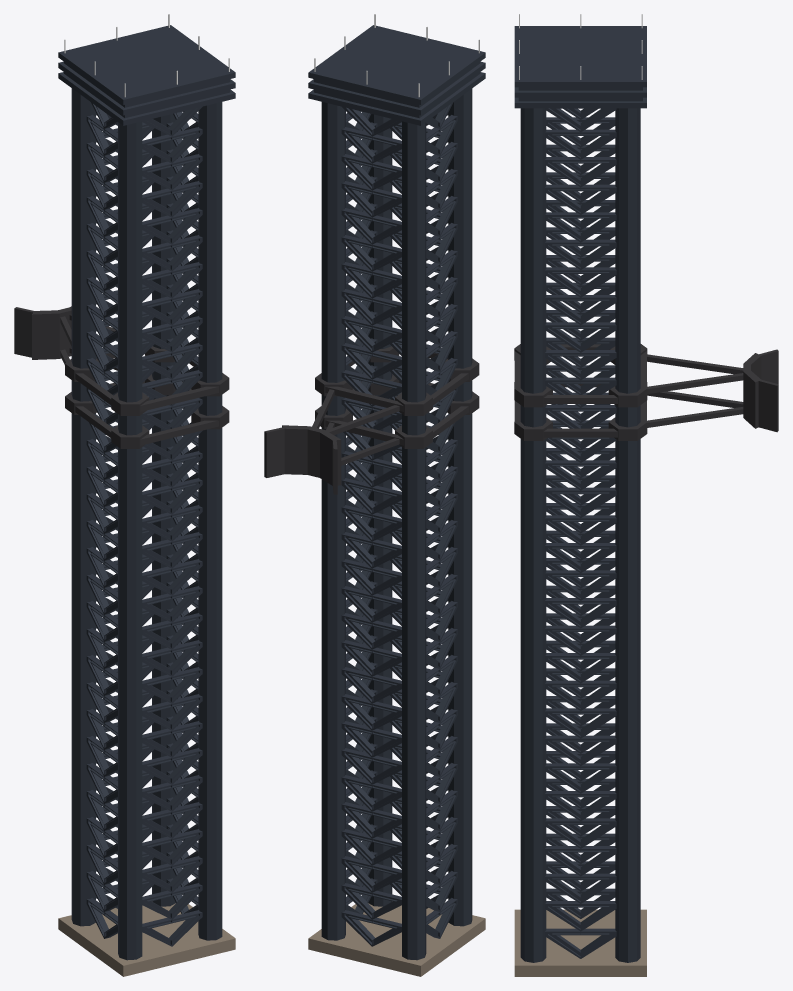
The model's file is rocketStand.fbx.
3 views of the same model, side by side, from view 1: azimuth 30°, elevation 25°; view 2: azimuth 150°, elevation 25°; view 3: azimuth 270°, elevation 25° (orthographic). The views are drawn at different scales.
Parts seen in each view (by area): view 1: Cylinder, Cube.003, Cube.002, Cube.001, Cube, Cube.013, Cylinder.001, Cylinder.002, Cube.010, Cube.008; view 2: Cylinder, Cube.003, Cube.002, Cube.001, Cube, Cube.013, Cube.012, Cylinder.001, Cylinder.002, Cube.010, Cube.008; view 3: Cube.002, Cylinder, Cube.001, Cube, Cube.012, Cube.013, Cylinder.002, Cylinder.001, Cube.009, Cube.011.
Boxes of the visible parts, box(x1,y1,x2,y2) form: Cylinder: box(71, 88, 222, 960); Cube.003: box(96, 106, 202, 946); Cube.002: box(86, 102, 198, 938); Cube.001: box(58, 25, 235, 125); Cube: box(58, 903, 235, 976); Cube.013: box(14, 306, 71, 359); Cylinder.001: box(65, 374, 229, 448); Cylinder.002: box(65, 346, 229, 415); Cube.010: box(96, 353, 218, 411); Cube.008: box(110, 381, 218, 445); Cylinder: box(321, 88, 472, 960); Cube.003: box(341, 106, 448, 946); Cube.002: box(346, 102, 457, 938); Cube.001: box(308, 25, 485, 125); Cube: box(308, 903, 485, 976); Cube.013: box(264, 425, 341, 494); Cube.012: box(312, 389, 399, 465); Cylinder.001: box(315, 374, 479, 448); Cylinder.002: box(315, 346, 479, 415); Cube.010: box(325, 353, 447, 411); Cube.008: box(325, 381, 433, 445); Cube.002: box(545, 108, 616, 958); Cylinder: box(520, 108, 640, 962); Cube.001: box(514, 26, 646, 108); Cube: box(514, 909, 646, 976); Cube.012: box(647, 354, 743, 427); Cube.013: box(743, 349, 778, 432); Cylinder.002: box(514, 344, 647, 407); Cylinder.001: box(514, 382, 647, 440); Cube.009: box(543, 384, 617, 437); Cube.011: box(543, 344, 617, 403).
Bounding box in the file's own units: 281 × 2124 × 560.
